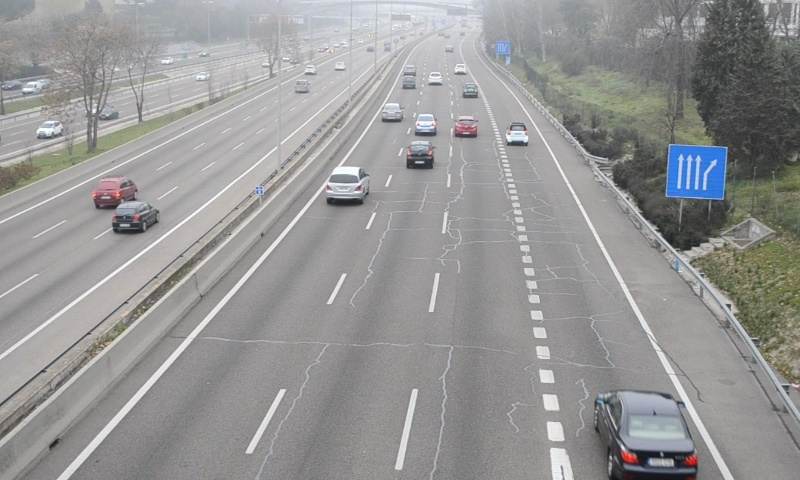car: (596, 390, 700, 480), (324, 164, 370, 202), (406, 140, 436, 169), (506, 122, 529, 146), (415, 113, 438, 136), (455, 116, 478, 138), (381, 103, 404, 124), (462, 82, 480, 99), (401, 76, 417, 90)
